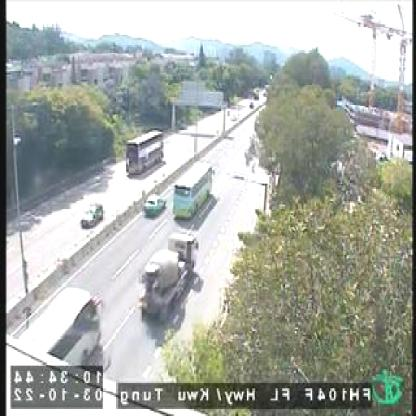Bus: (18, 283, 104, 362), (127, 128, 164, 175)
Car: (81, 205, 104, 227), (147, 194, 166, 217)
Truck: (138, 230, 201, 316), (174, 160, 215, 216)
